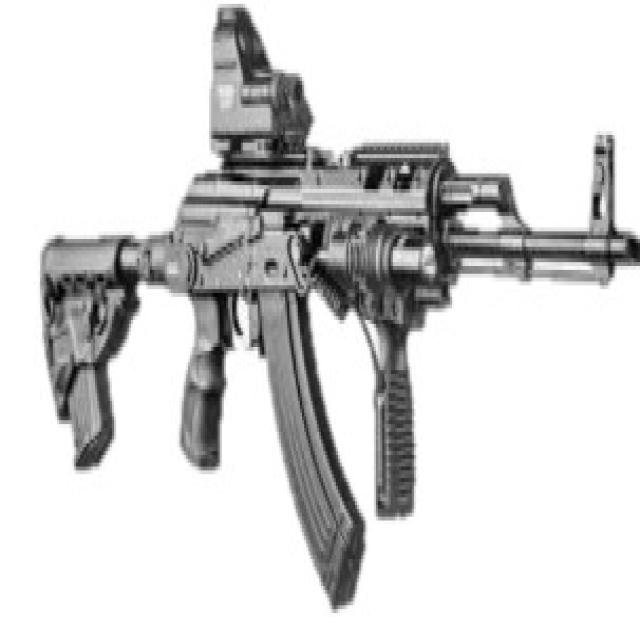rifle: (32, 1, 640, 602)
